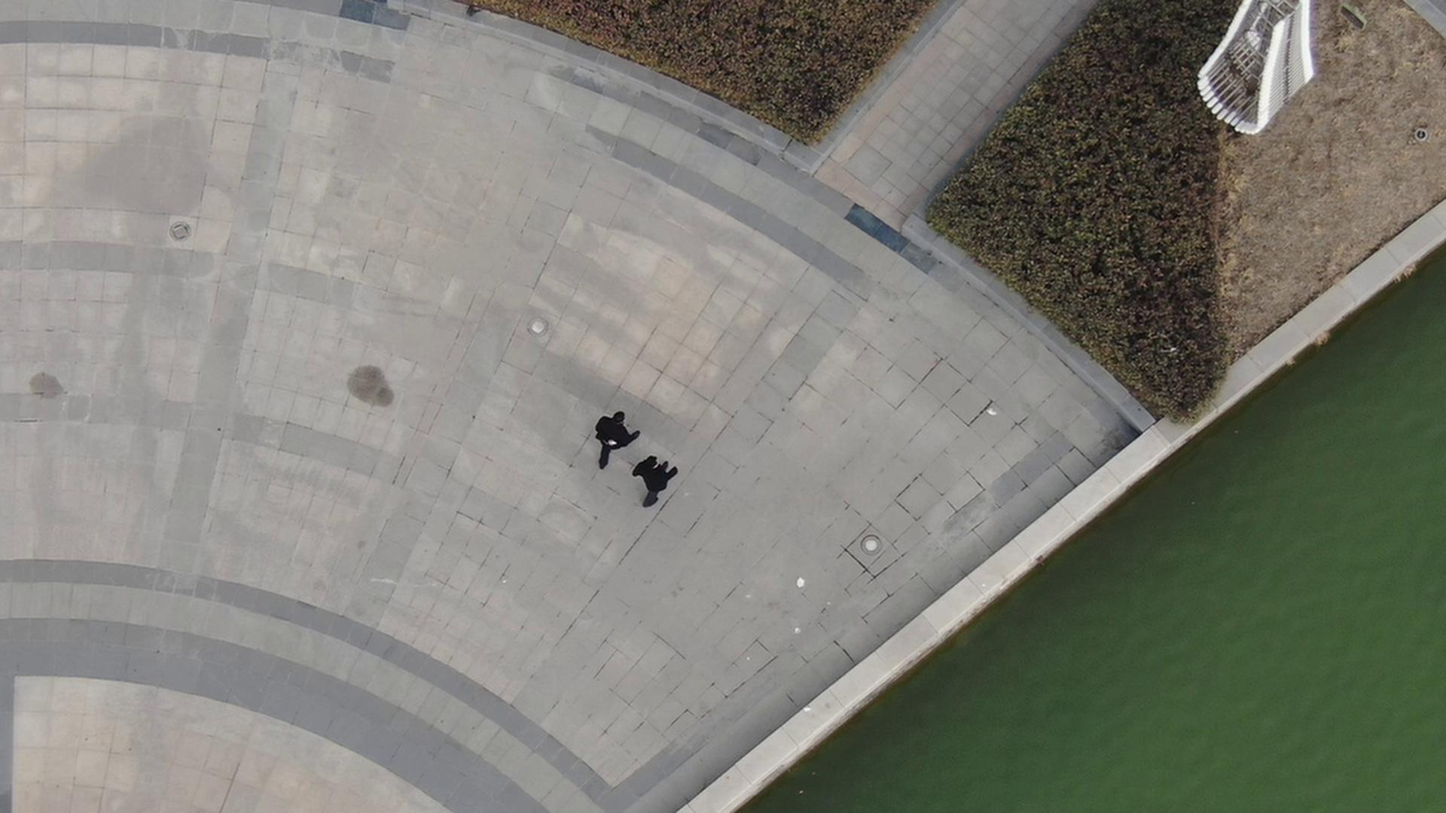human: (581, 400, 638, 463), (632, 443, 679, 508)
